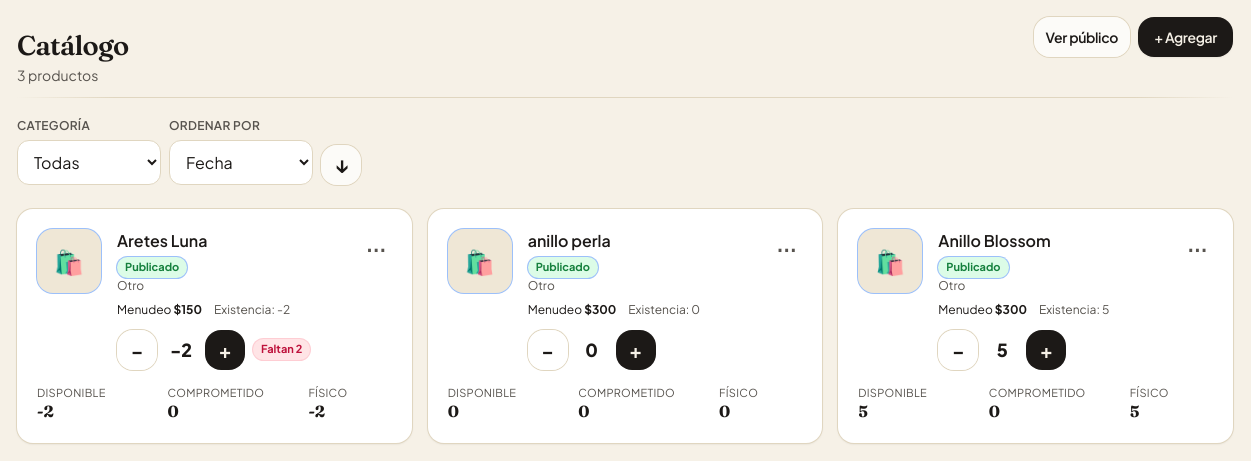
CatalogScreen orden › ordena por nombre en ambas direcciones (localeCompare es, sin importar mayúsculas)
Select "Nombre" in the dropdown labelled "Ordenar por" at [241, 162], box [169,140,313,185]
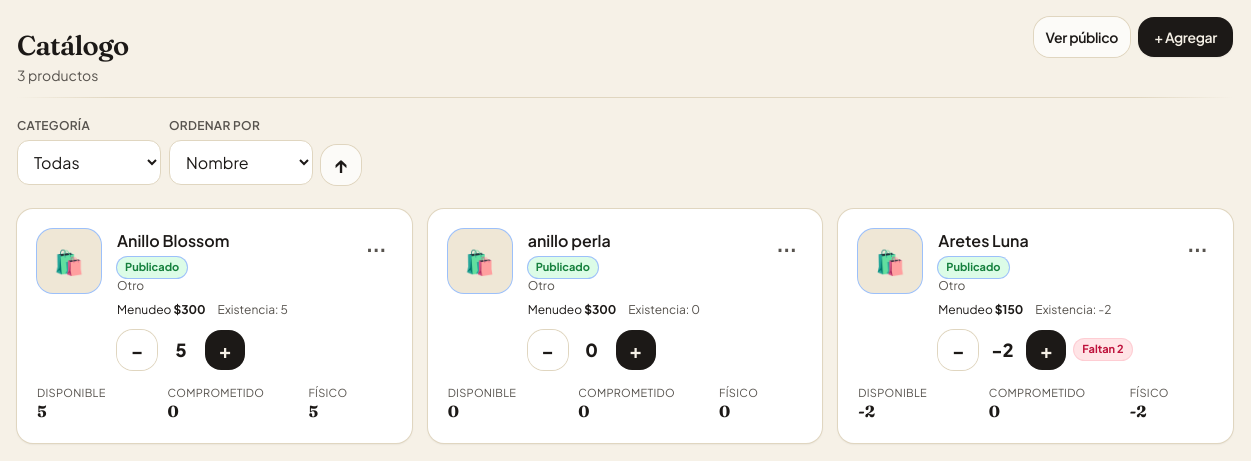
Click the button named "Orden ascendente".
click(341, 165)  # box [321,145,361,185]
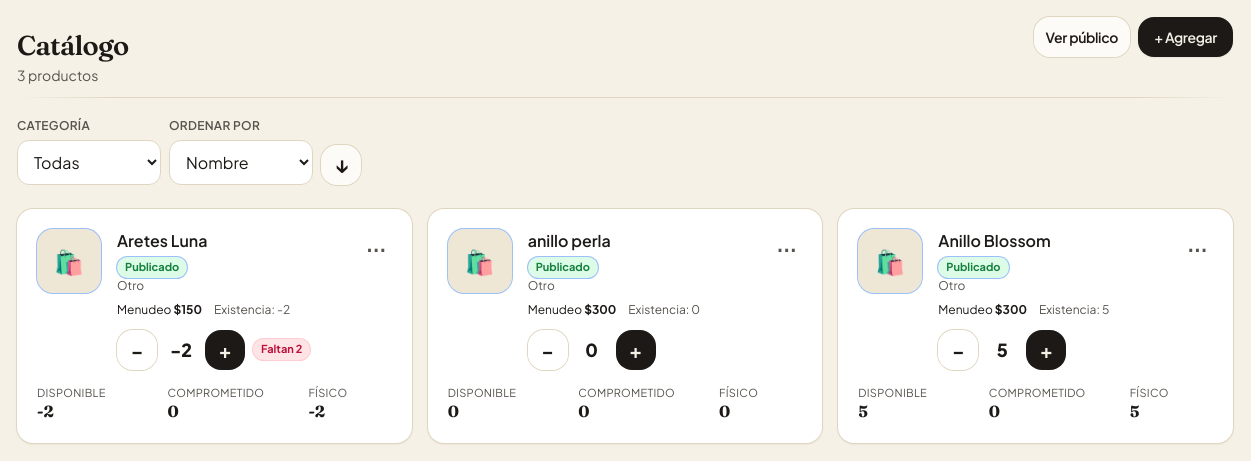
Result: the button named "Orden descendente" is shown at [321,145,361,185]
